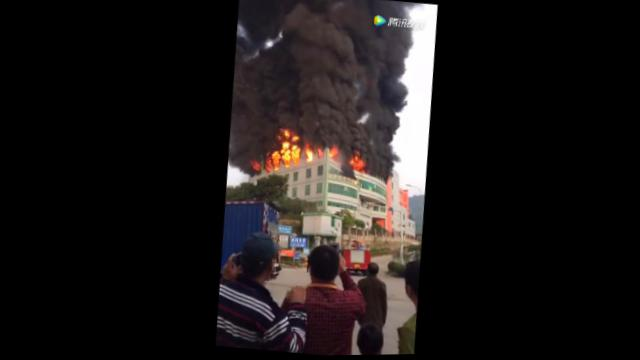fire: (277, 139, 291, 165), (268, 150, 280, 170), (261, 154, 273, 172), (348, 156, 363, 170), (289, 143, 298, 165), (302, 144, 312, 163), (324, 147, 338, 159), (249, 161, 262, 173), (314, 149, 324, 159), (281, 128, 290, 139), (287, 134, 297, 142)
